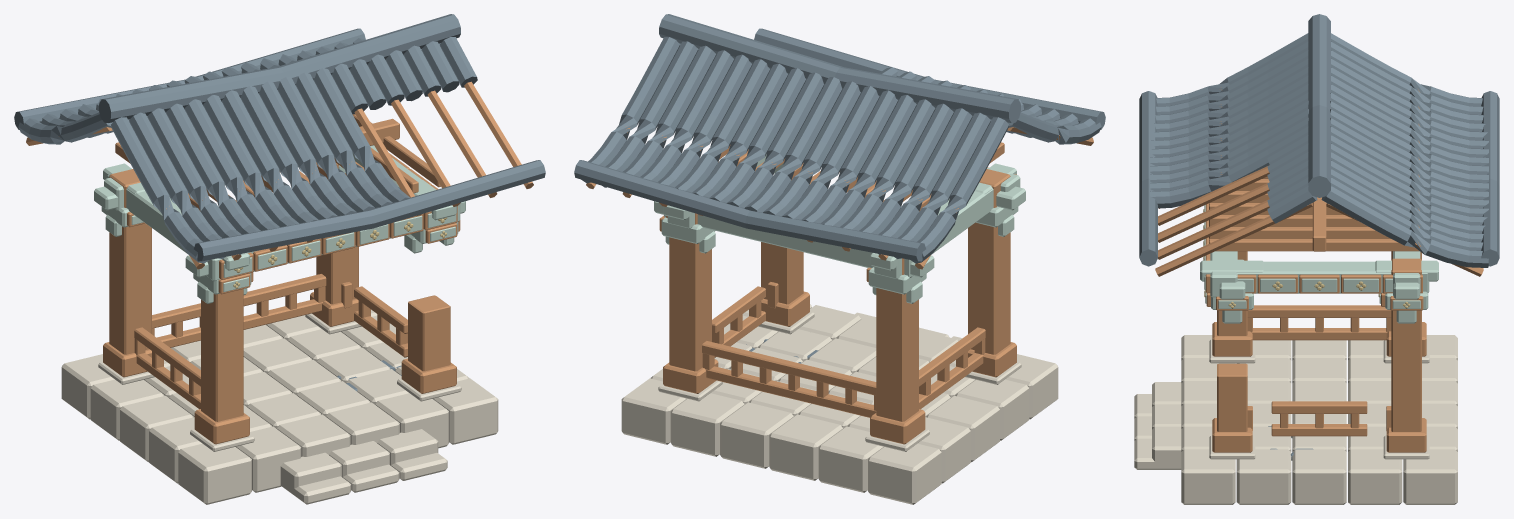
Rendered from Test_CheonRef_RuinedPavilion.fbx.
The picture shows the model from 3 angles, left to right: view 1: azimuth 30°, elevation 25°; view 2: azimuth 150°, elevation 25°; view 3: azimuth 270°, elevation 25°; orthographic projection. The views are drawn at different scales.
Visible parts, largest first — view 1: RoofRidge, CurvedRoofEave, Pavilion_Pillar_Post.001, Pavilion_Pillar_Post, Pavilion_Stone_0_0, Pavilion_Pillar_Post.002, BroadIndigoRoofTile, BroadIndigoRoofTile.009, BroadIndigoRoofTile.010, BroadIndigoRoofTile.008, BroadIndigoRoofTile.011, BroadIndigoRoofTile.007 (+57 smaller); view 2: RoofRidge, CurvedRoofEave.001, Pavilion_Pillar_Post, Pavilion_Pillar_Post.001, Pavilion_Pillar_Post.003, Pavilion_Stone_0_4, Pavilion_Stone_2_4, Pavilion_Stone_3_4, CurvedRoofEave, Pavilion_Stone_4_4, BroadIndigoRoofTile.019, Pavilion_Stone_1_4 (+47 smaller); view 3: RoofRidge, Pavilion_Pillar_Post.003, Pavilion_Stone_5_2, BroadIndigoRoofTile.037, Pavilion_Stone_5_1, Pavilion_Stone_5_3, CurvedRoofEave, Pavilion_Stone_5_0, Pavilion_Stone_5_4, CurvedRoofEave.001, Pavilion_CeilingRafter.008, BroadIndigoRoofTile.011 (+91 smaller).
Boxes of the visible parts, <box> form: RoofRidge: <box>99,14,460,122</box>; CurvedRoofEave: <box>194,160,545,261</box>; Pavilion_Pillar_Post.001: <box>109,169,151,354</box>; Pavilion_Pillar_Post: <box>201,289,243,421</box>; Pavilion_Stone_0_0: <box>178,443,251,504</box>; Pavilion_Pillar_Post.002: <box>408,295,450,371</box>; BroadIndigoRoofTile: <box>111,117,208,263</box>; BroadIndigoRoofTile.009: <box>277,77,375,212</box>; BroadIndigoRoofTile.010: <box>295,72,393,207</box>; BroadIndigoRoofTile.008: <box>259,81,356,215</box>; BroadIndigoRoofTile.011: <box>313,68,410,202</box>; BroadIndigoRoofTile.007: <box>240,86,337,219</box>; RoofRidge: <box>659,14,1020,122</box>; CurvedRoofEave.001: <box>574,160,925,261</box>; Pavilion_Pillar_Post: <box>968,169,1010,354</box>; Pavilion_Pillar_Post.001: <box>876,258,918,421</box>; Pavilion_Pillar_Post.003: <box>669,213,711,371</box>; Pavilion_Stone_0_4: <box>868,443,941,504</box>; Pavilion_Stone_2_4: <box>769,414,843,480</box>; Pavilion_Stone_3_4: <box>720,402,793,468</box>; CurvedRoofEave: <box>754,28,1105,129</box>; Pavilion_Stone_4_4: <box>670,393,744,456</box>; BroadIndigoRoofTile.019: <box>911,117,1008,263</box>; Pavilion_Stone_1_4: <box>818,426,884,492</box>; RoofRidge: <box>1308,14,1330,197</box>; Pavilion_Pillar_Post.003: <box>1391,258,1421,431</box>; Pavilion_Stone_5_2: <box>1292,449,1346,504</box>; BroadIndigoRoofTile.037: <box>1321,186,1488,267</box>; Pavilion_Stone_5_1: <box>1236,449,1291,504</box>; Pavilion_Stone_5_3: <box>1348,449,1402,504</box>; CurvedRoofEave: <box>1139,91,1157,266</box>; Pavilion_Stone_5_0: <box>1181,449,1235,504</box>; Pavilion_Stone_5_4: <box>1403,449,1457,504</box>; CurvedRoofEave.001: <box>1481,91,1499,266</box>; Pavilion_CeilingRafter.008: <box>1209,239,1419,251</box>; BroadIndigoRoofTile.011: <box>1150,126,1308,208</box>.
Size of the model in its own units: 452 by 443 by 428.
